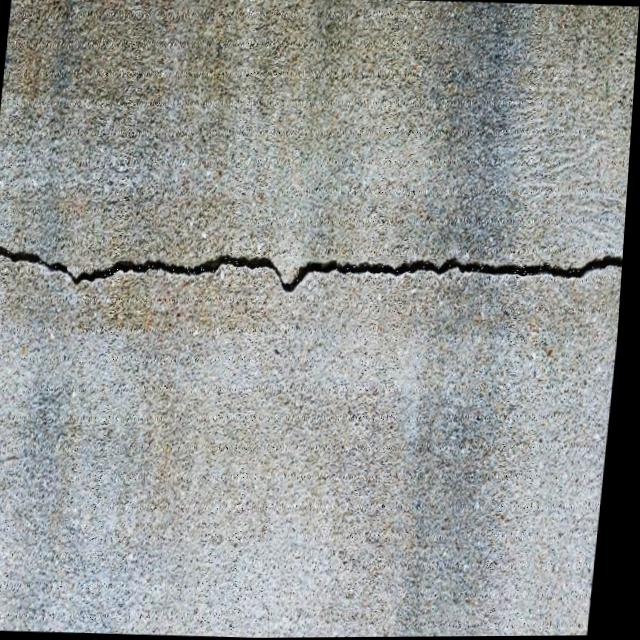Crack: (0, 210, 629, 322)
